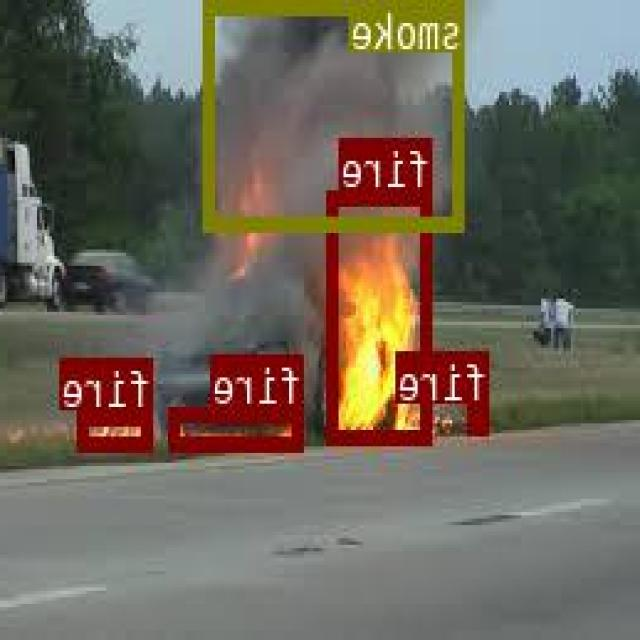fire: (331, 190, 434, 443), (172, 404, 306, 447), (81, 409, 154, 449), (470, 402, 492, 433)
smoke: (207, 0, 466, 226)
